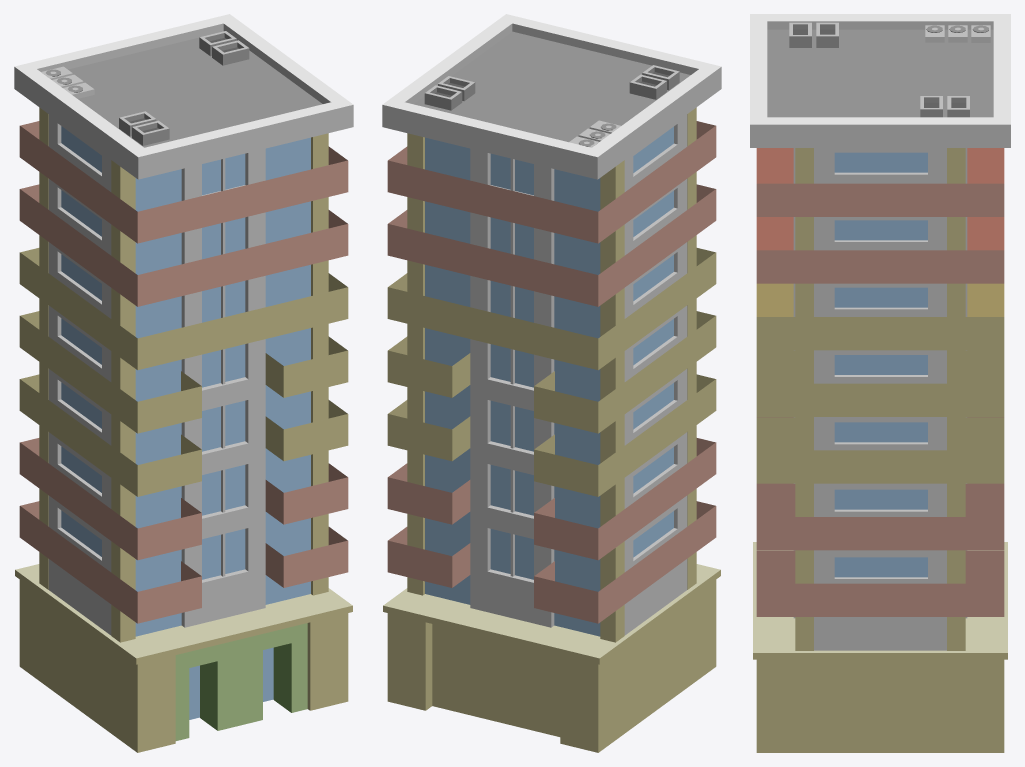
Rendered from house_middle_009.fbx.
3 views of the same model, side by side, from view 1: azimuth 30°, elevation 25°; view 2: azimuth 150°, elevation 25°; view 3: azimuth 270°, elevation 25° (orthographic). The views are drawn at different scales.
Parts seen in each view (by area): view 1: house_middle_009; view 2: house_middle_009; view 3: house_middle_009.
Part boxes in pixels (<box>): house_middle_009: <box>14,14,353,752</box>; house_middle_009: <box>382,14,721,752</box>; house_middle_009: <box>750,14,1010,752</box>.
Bounding box in the file's own units: 727 × 1928 × 720.
